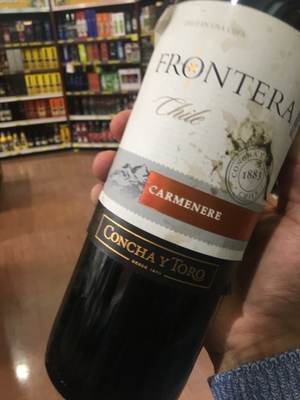frontera carmenere: (93, 12, 298, 379)
